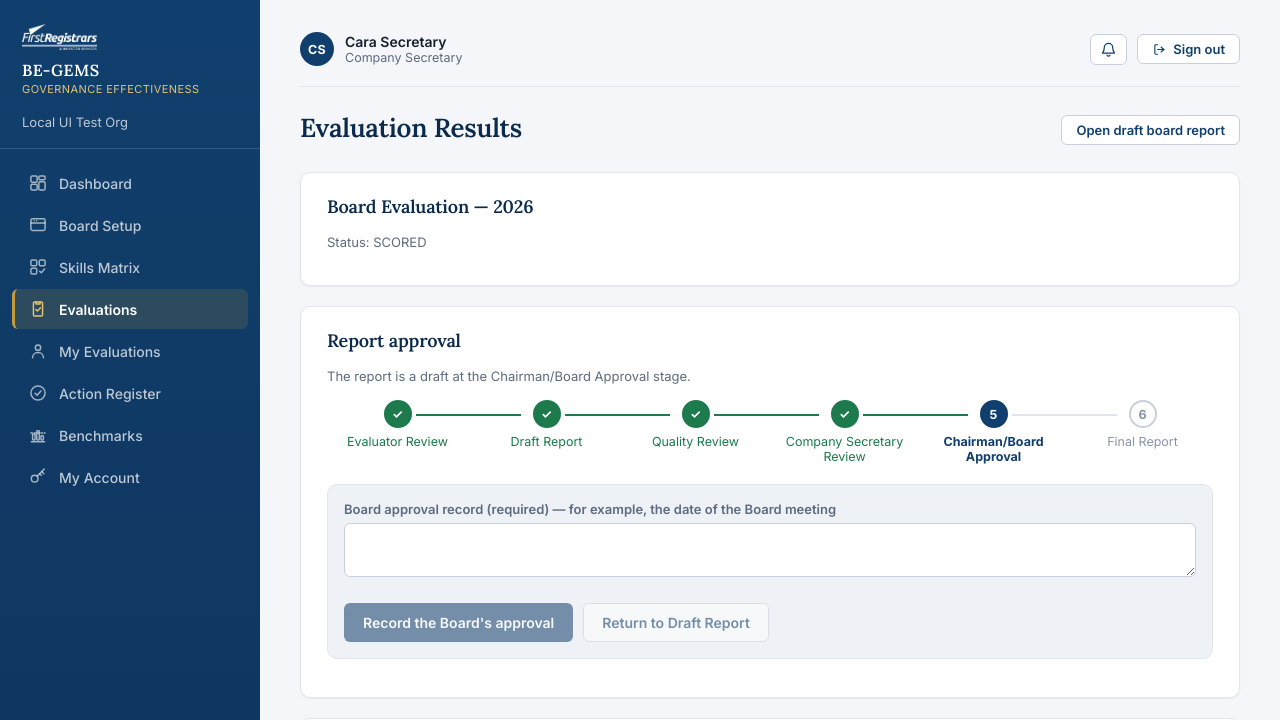
Test: EvaluationResultsPage › asks the Company Secretary to record when the Board approved the report
Check: the button "Record the Board's approval" is disabled, box [344,603,573,642]
Type "Board meeting of 2 October 2026" into the text box labelled "Board approval record". click: (770, 550)
box: [344,523,1196,577]
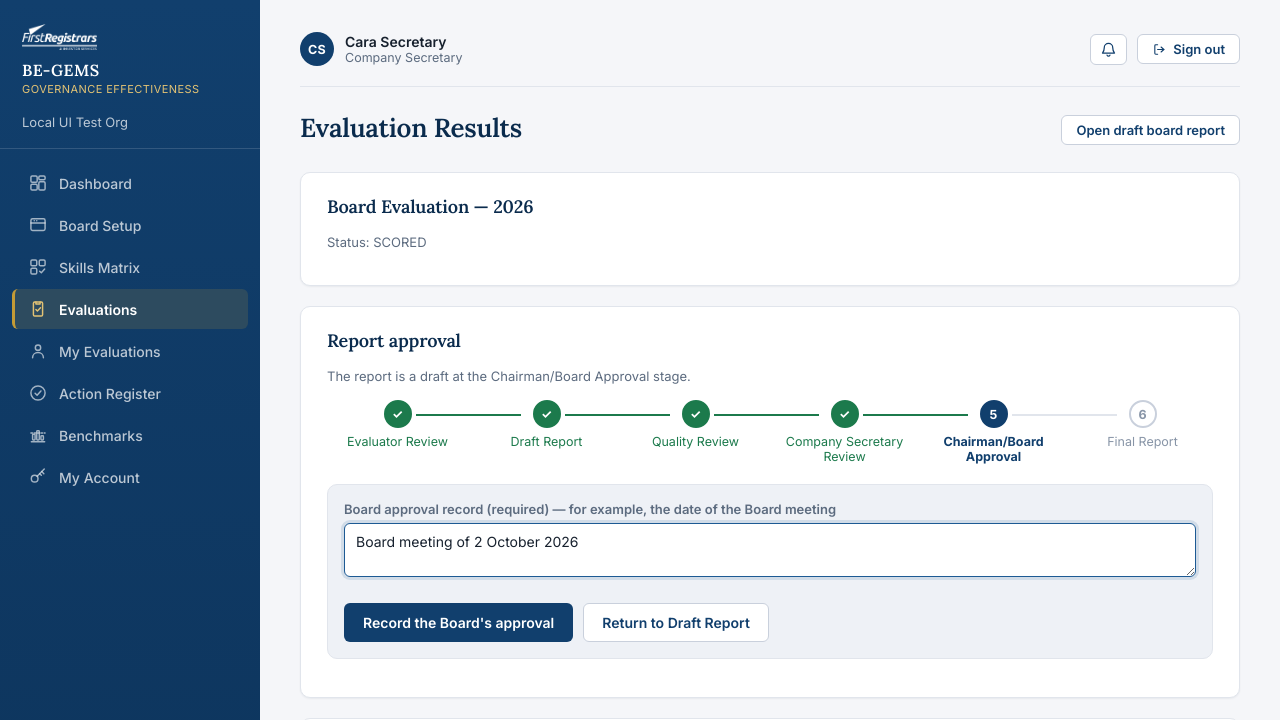
Check: the button "Record the Board's approval" is enabled, box [344,603,573,642]
